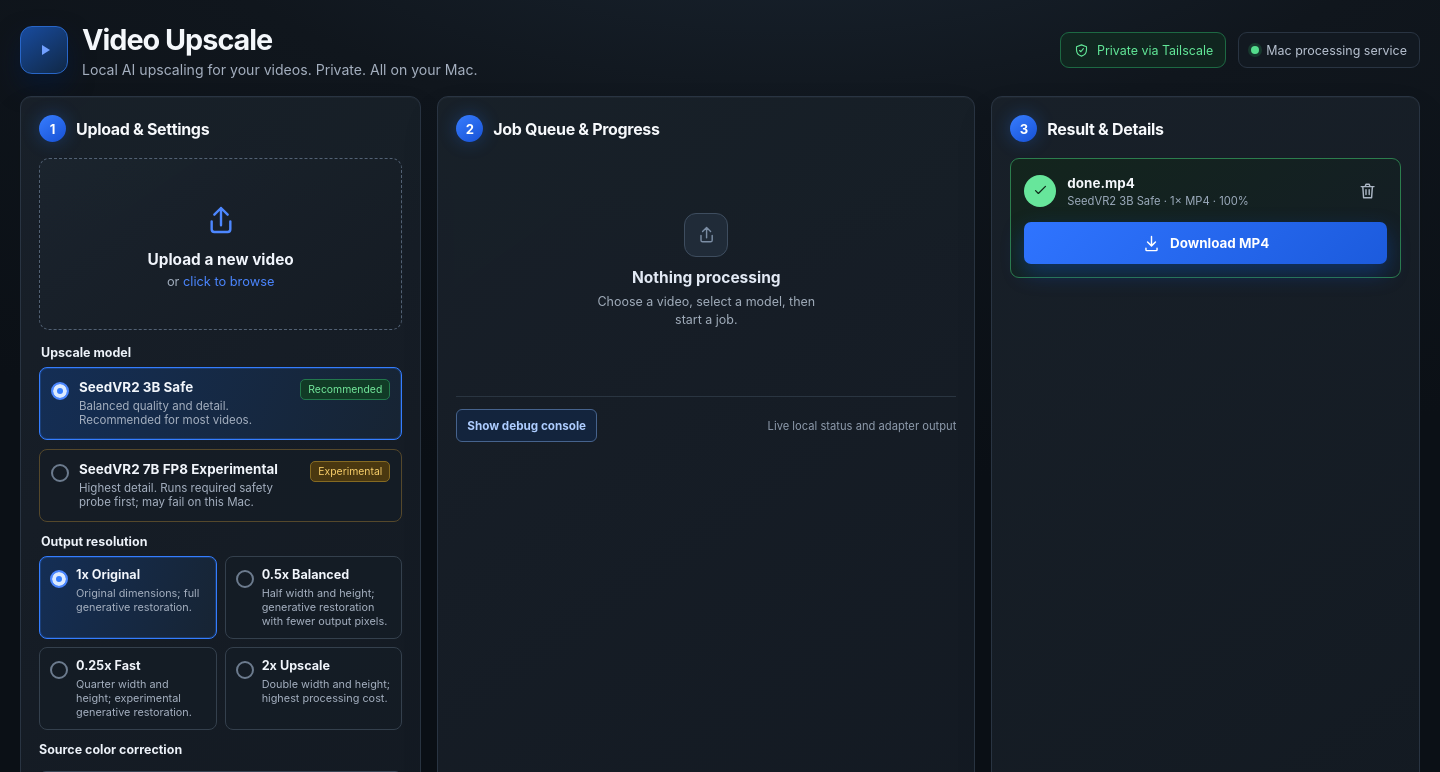
Scenario: App › labels completed output as historical and states backend validation reached 100
The width and height of the screenshot is (1440, 772).
Click the button "Show debug console" at (527,426), box 456,409 -> 597,442
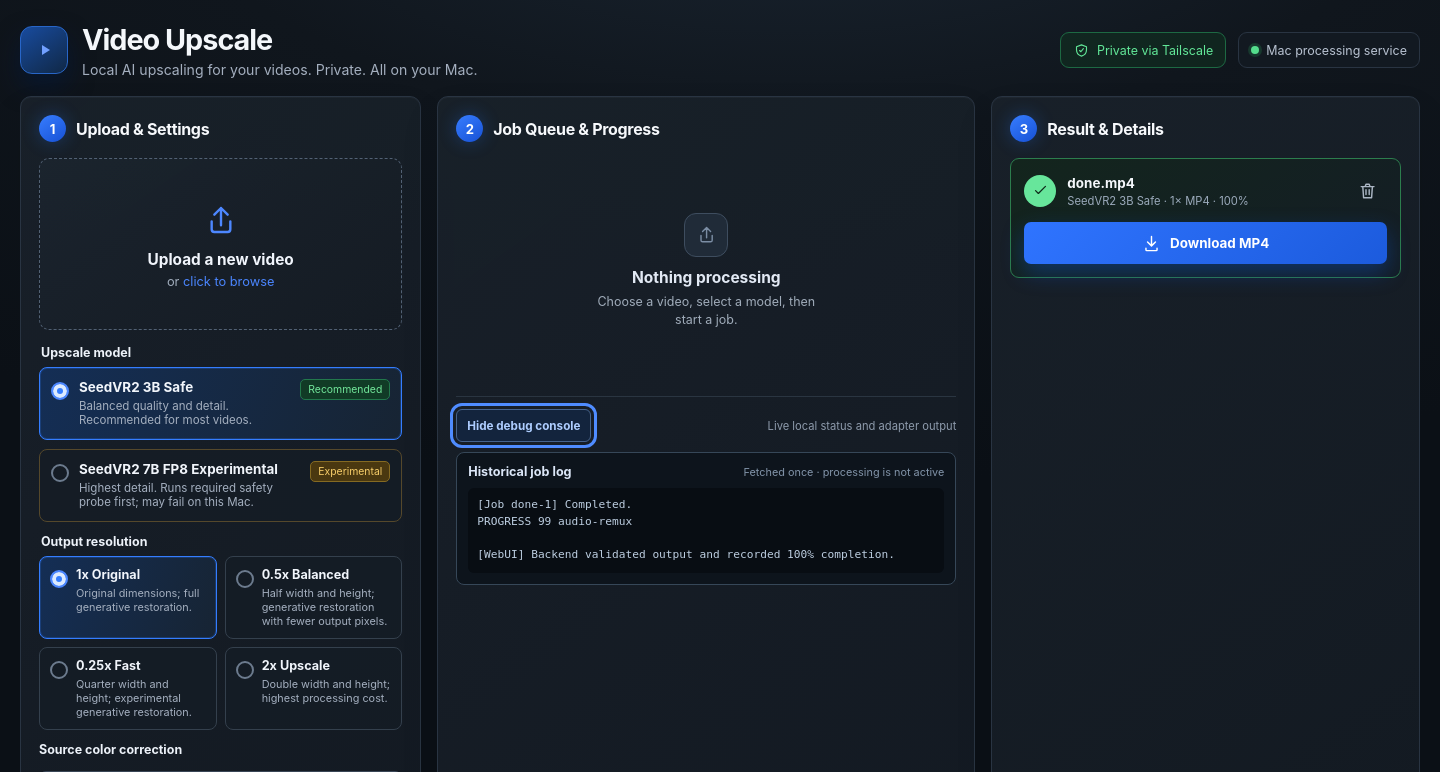
Check: the heading "Historical job log" is shown, box 468,464 -> 572,479
Check: the text "Fetched once · processing is not active" is shown, box 744,465 -> 944,479
Check: the text "Backend validated output and recorded 100% completion" is shown, box 477,498 -> 895,561
